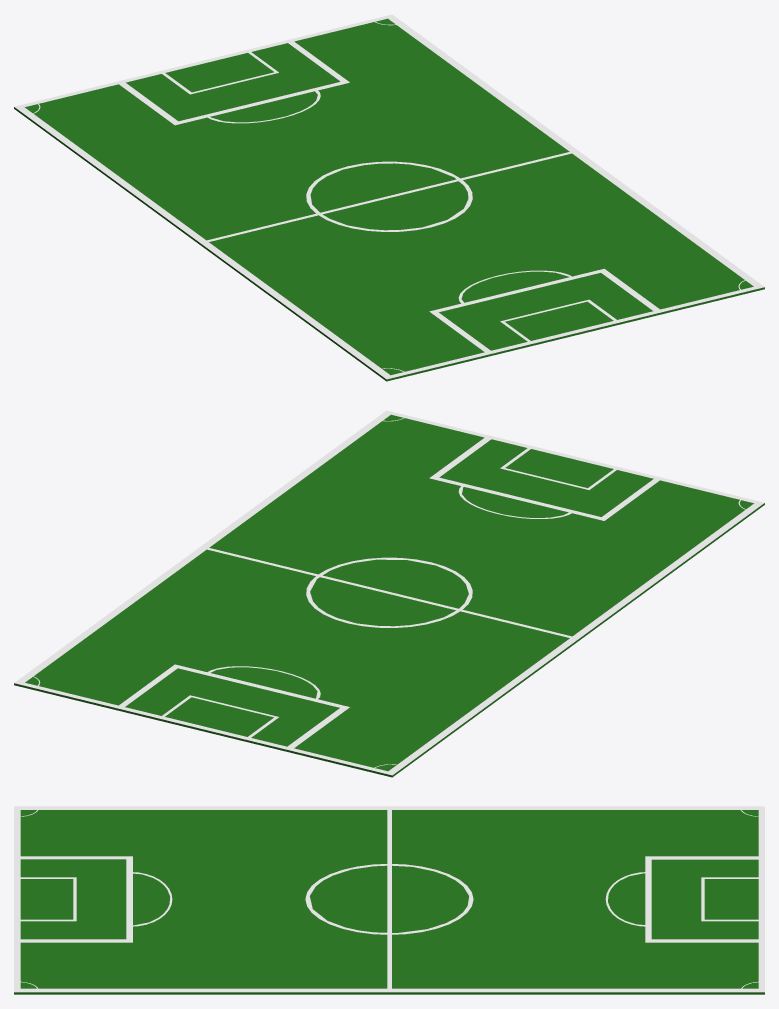
File: pitch.glb
The picture shows the model from 3 angles, top to bottom: view 1: azimuth 30°, elevation 25°; view 2: azimuth 150°, elevation 25°; view 3: azimuth 270°, elevation 25°; orthographic projection.
Size of the model in its own units: 1430 by 7.89 by 2439.
